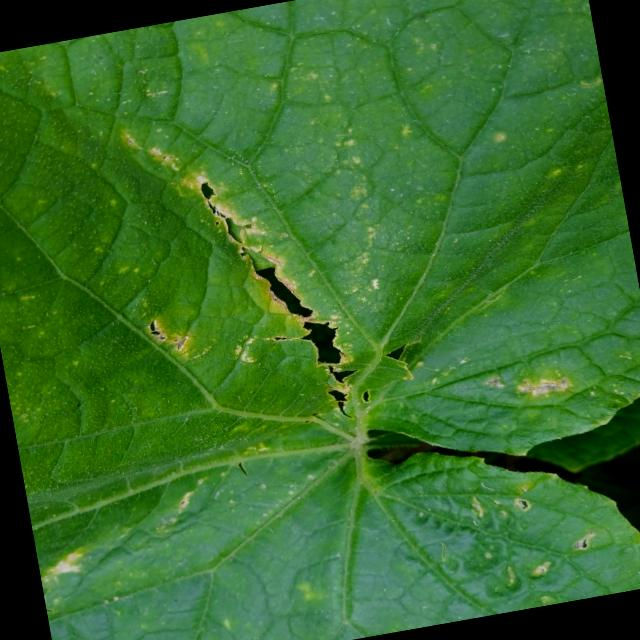cucumber_anthracnose: (71, 63, 608, 640)
